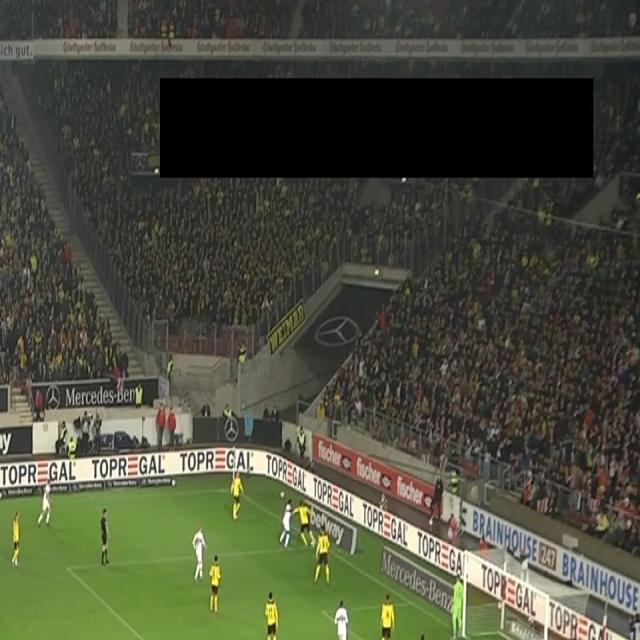ball: (310, 538, 316, 550)
